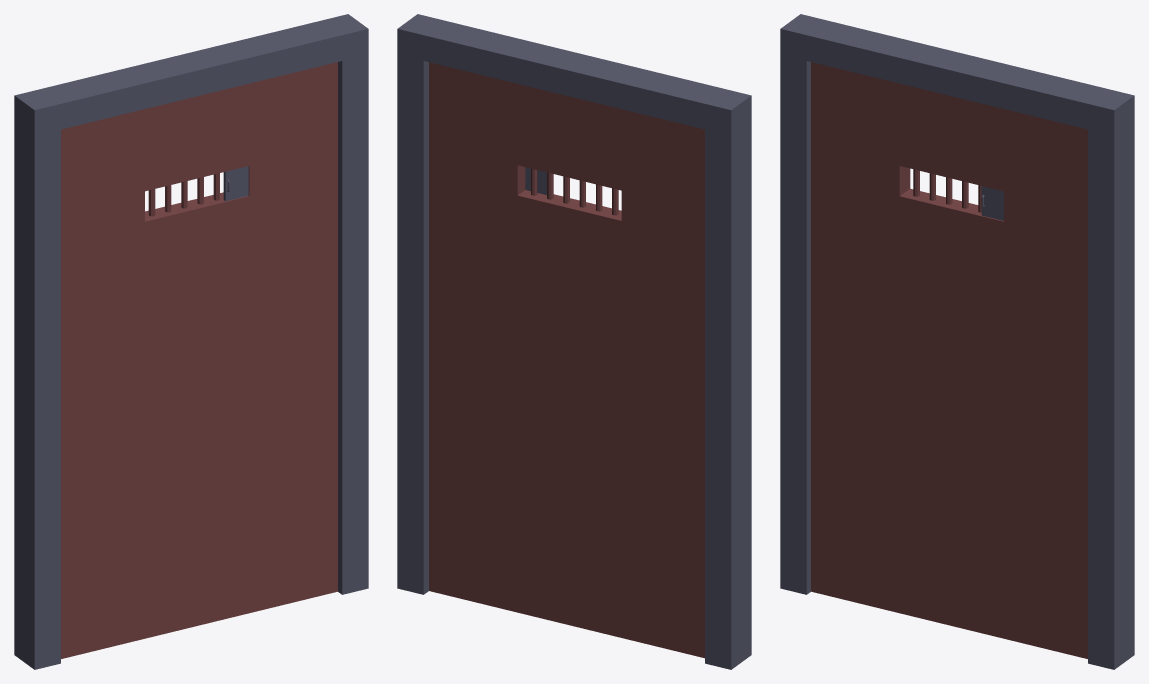
Rendered from puerta1.fbx.
3 views of the same model, side by side, from view 1: azimuth 30°, elevation 25°; view 2: azimuth 150°, elevation 25°; view 3: azimuth 330°, elevation 25° (orthographic).
Parts seen in each view (by area): view 1: Puerta Barrotes.004, PuertaComun.003; view 2: Puerta Barrotes.004, PuertaComun.003; view 3: Puerta Barrotes.004, PuertaComun.003.
Part boxes in pixels (x1,y1,x2,y2): Puerta Barrotes.004: (61,62,337,658); PuertaComun.003: (14,14,368,669); Puerta Barrotes.004: (429,62,704,658); PuertaComun.003: (397,14,751,669); Puerta Barrotes.004: (811,62,1087,658); PuertaComun.003: (780,14,1134,669).
Bounding box in the file's own units: 134 × 214 × 14.04.
